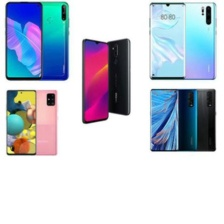phone: (25, 0, 71, 81), (2, 0, 45, 82), (146, 0, 188, 81), (180, 0, 219, 83), (80, 36, 112, 126), (4, 88, 39, 157), (27, 87, 60, 157), (105, 36, 133, 116), (148, 86, 181, 153), (169, 86, 200, 153), (186, 86, 217, 153)
